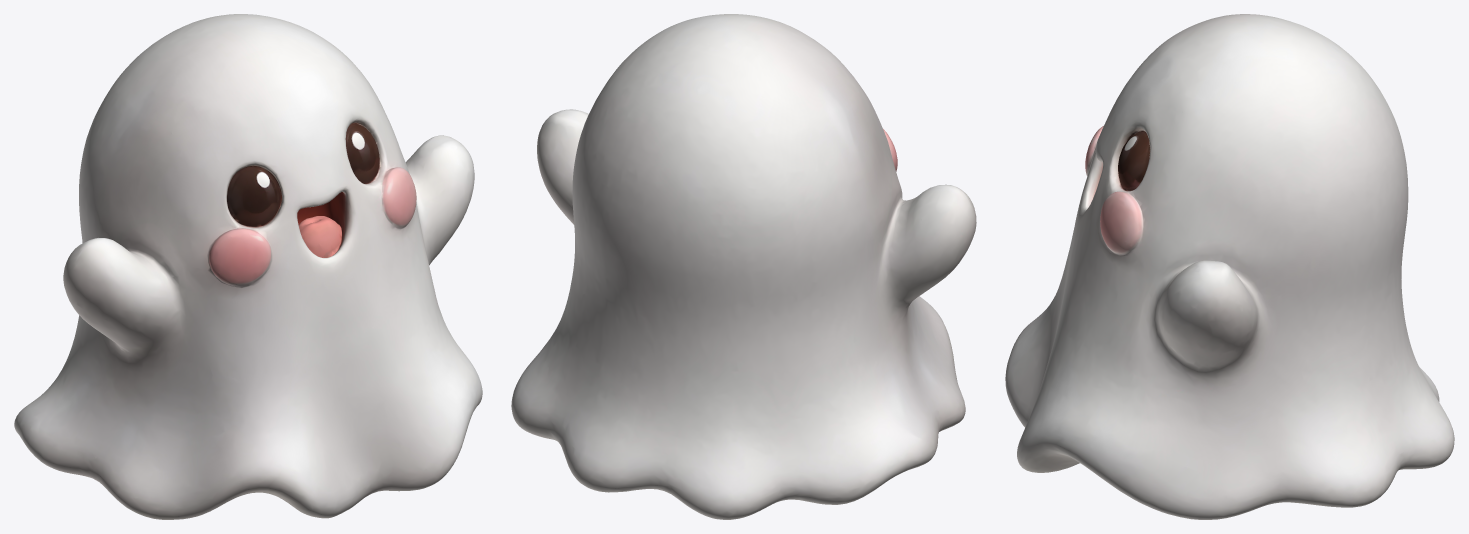
Rendered from ghost.glb.
The picture shows the model from 3 angles, left to right: view 1: azimuth 30°, elevation 25°; view 2: azimuth 150°, elevation 25°; view 3: azimuth 270°, elevation 25°; orthographic projection.
Parts seen in each view (by area): view 1: tripo_node_92974fb2-9124-4881-a1a7-3cb087b4b1fa; view 2: tripo_node_92974fb2-9124-4881-a1a7-3cb087b4b1fa; view 3: tripo_node_92974fb2-9124-4881-a1a7-3cb087b4b1fa.
Boxes of the visible parts, box(x1,y1,x2,y2) form: tripo_node_92974fb2-9124-4881-a1a7-3cb087b4b1fa: box(14, 14, 482, 519); tripo_node_92974fb2-9124-4881-a1a7-3cb087b4b1fa: box(511, 14, 976, 519); tripo_node_92974fb2-9124-4881-a1a7-3cb087b4b1fa: box(1005, 14, 1454, 519).
Size of the model in its own units: 1 by 0.9525 by 0.9223.
1 material, 1 textured.
